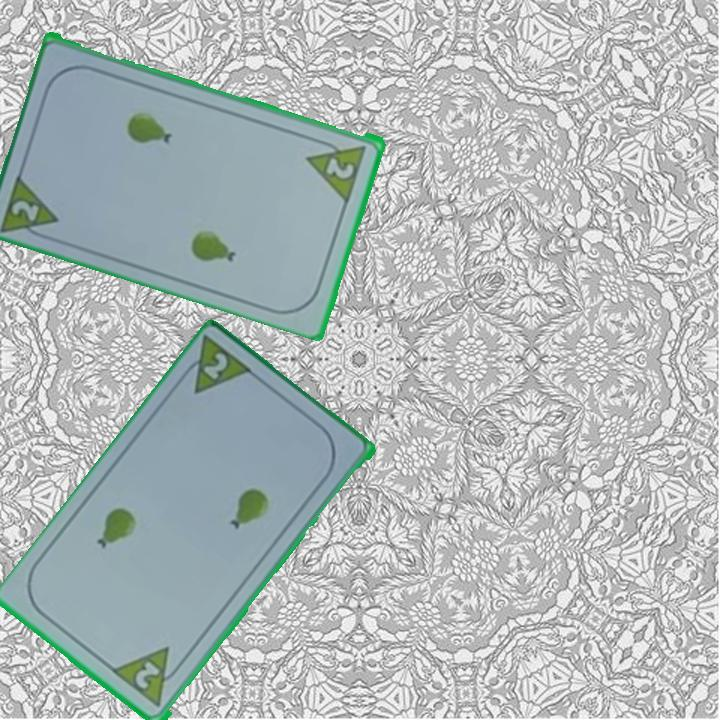2p: (110, 644, 188, 712), (304, 133, 370, 203), (199, 349, 231, 383), (8, 196, 43, 224)
